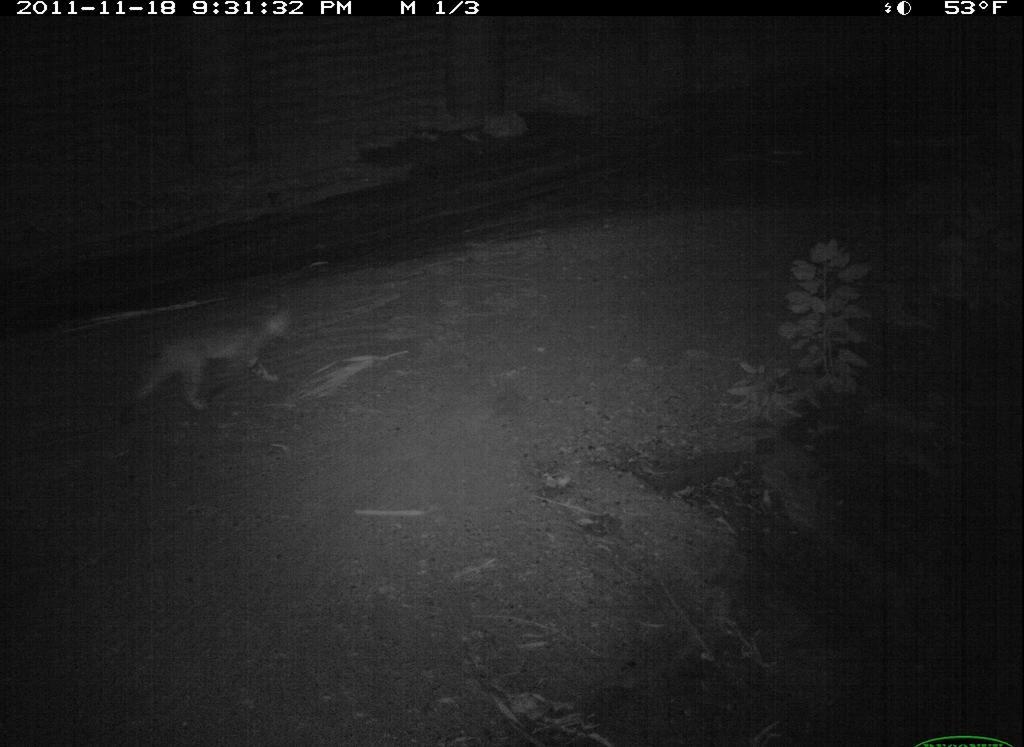bobcat: (114, 305, 319, 413)
